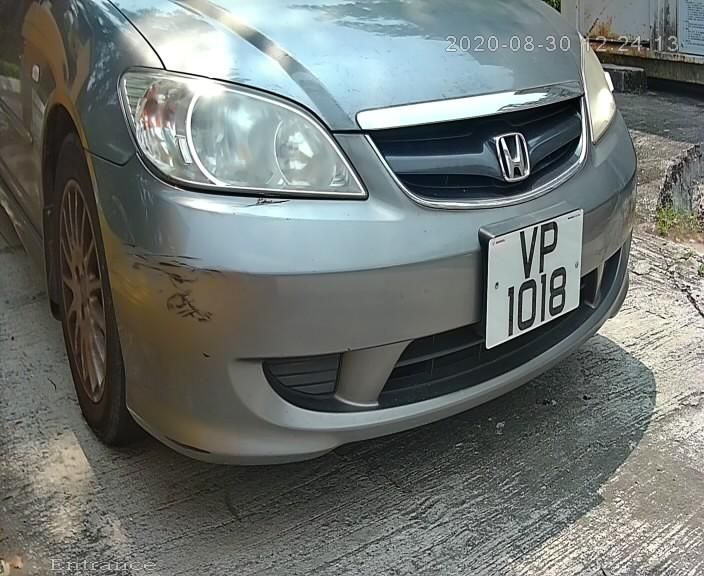License Plate: (478, 199, 585, 355)
